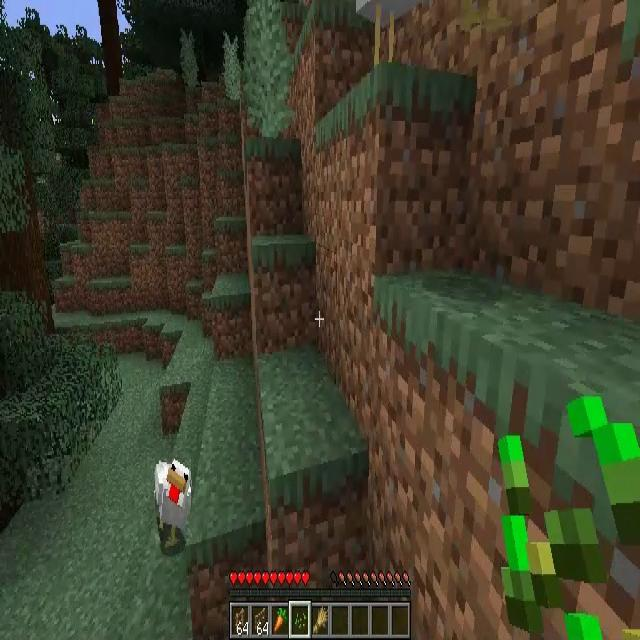duck: (155, 458, 191, 541)
